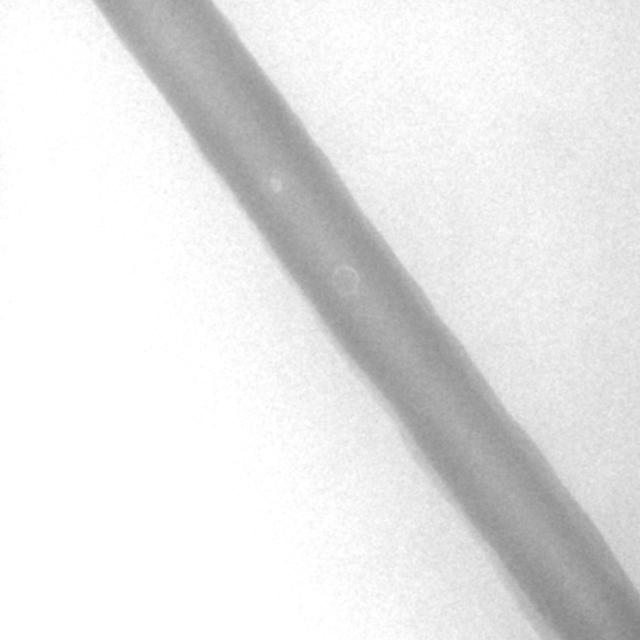hollow bead: (329, 263, 359, 300)
